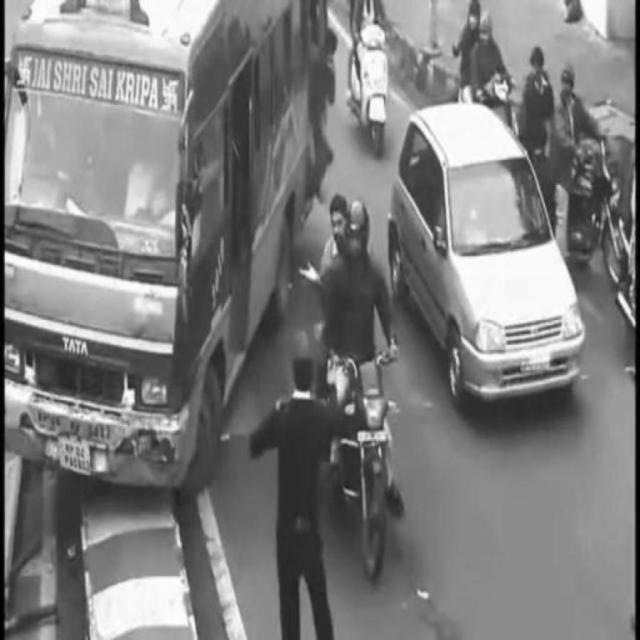person: (248, 347, 356, 635)
vehicle: (14, 9, 312, 494), (388, 107, 583, 403), (302, 188, 408, 585), (341, 3, 401, 147)
